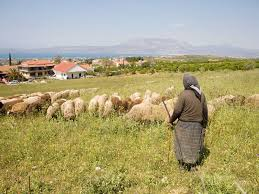sheep: (129, 102, 166, 124), (209, 93, 240, 111), (60, 99, 77, 121), (86, 93, 100, 119), (6, 102, 28, 118), (44, 98, 60, 120), (241, 90, 259, 109), (73, 97, 85, 122), (23, 95, 42, 110), (110, 93, 122, 113), (101, 99, 113, 118), (121, 93, 132, 110), (67, 86, 81, 99), (129, 90, 141, 102)
